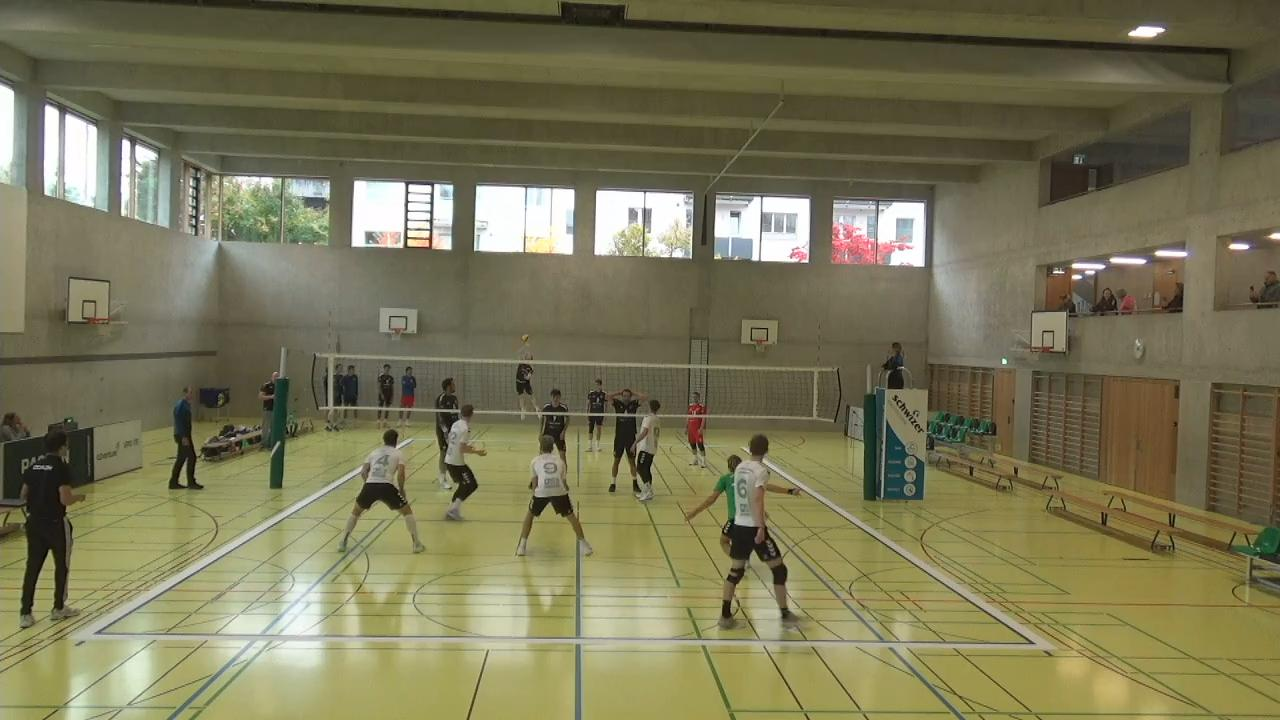battuta: (512, 334, 542, 421)
